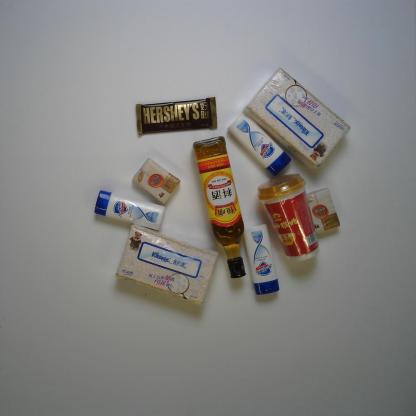Chocolate: (130, 95, 217, 134)
Instant Drink: (260, 157, 324, 273)
Personal Hygiene: (228, 108, 288, 172), (94, 190, 165, 231), (244, 220, 280, 298)
Seasoner: (192, 136, 247, 278)
Tissue: (242, 66, 350, 165), (110, 228, 220, 307), (132, 157, 179, 210), (305, 186, 340, 233)
